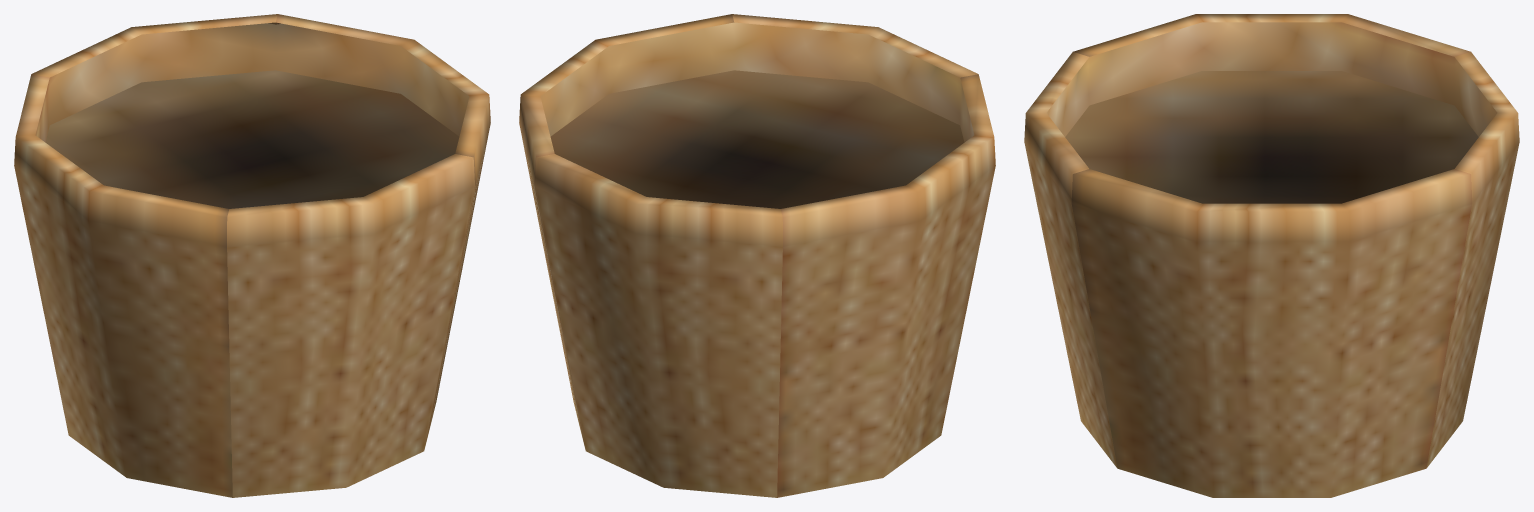
The model's file is cer_1.dae.
3 renders of one model, left to right at view 1: azimuth 30°, elevation 25°; view 2: azimuth 150°, elevation 25°; view 3: azimuth 270°, elevation 25°, orthographic.
Parts seen in each view (by area): view 1: cer_1; view 2: cer_1; view 3: cer_1.
Part boxes in pixels (box(x1,y1,x2,y2)): cer_1: box(14, 14, 490, 497); cer_1: box(519, 14, 995, 497); cer_1: box(1024, 14, 1519, 497).
Bounding box in the file's own units: 0.913 × 0.96 × 0.6591.
